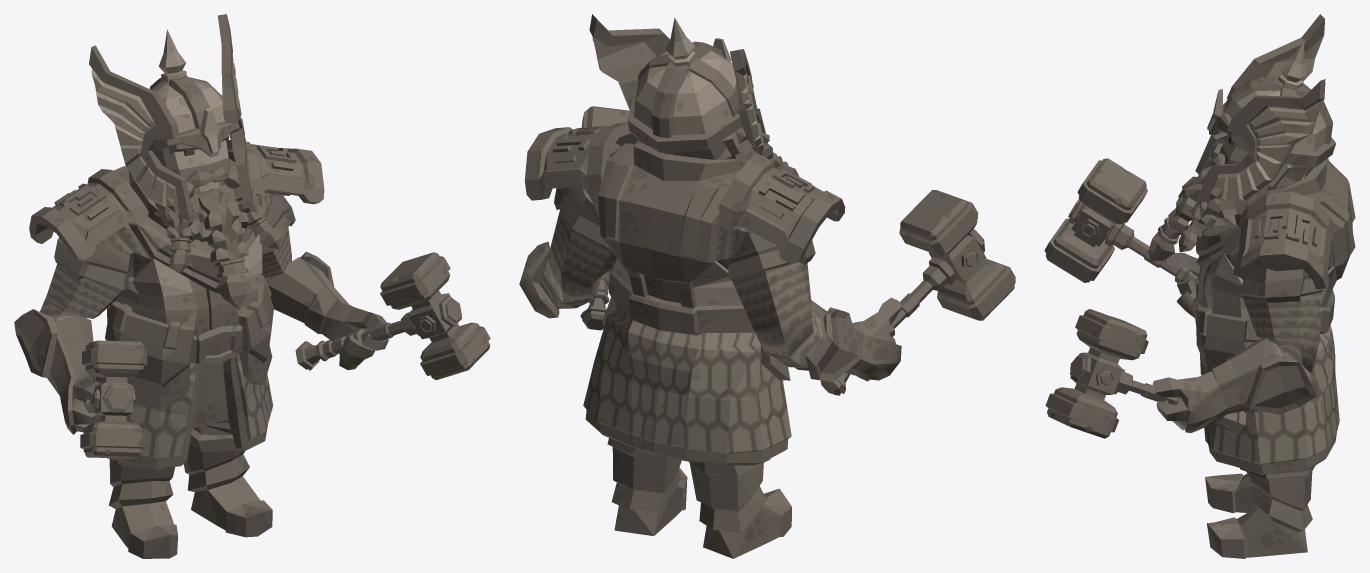
Rendered from forge_statue.gltf.
The picture shows the model from 3 angles, left to right: view 1: azimuth 30°, elevation 25°; view 2: azimuth 150°, elevation 25°; view 3: azimuth 270°, elevation 25°; orthographic projection. The views are drawn at different scales.
Visible parts, largest first — view 1: forge_statue; view 2: forge_statue; view 3: forge_statue.
Part boxes in pixels (box(x1,y1,x2,y2)): forge_statue: box(14, 14, 490, 558); forge_statue: box(519, 14, 1015, 558); forge_statue: box(1044, 14, 1355, 558).
Size of the model in its own units: 1.9 by 2.18 by 1.26.
1 material, 1 textured.
